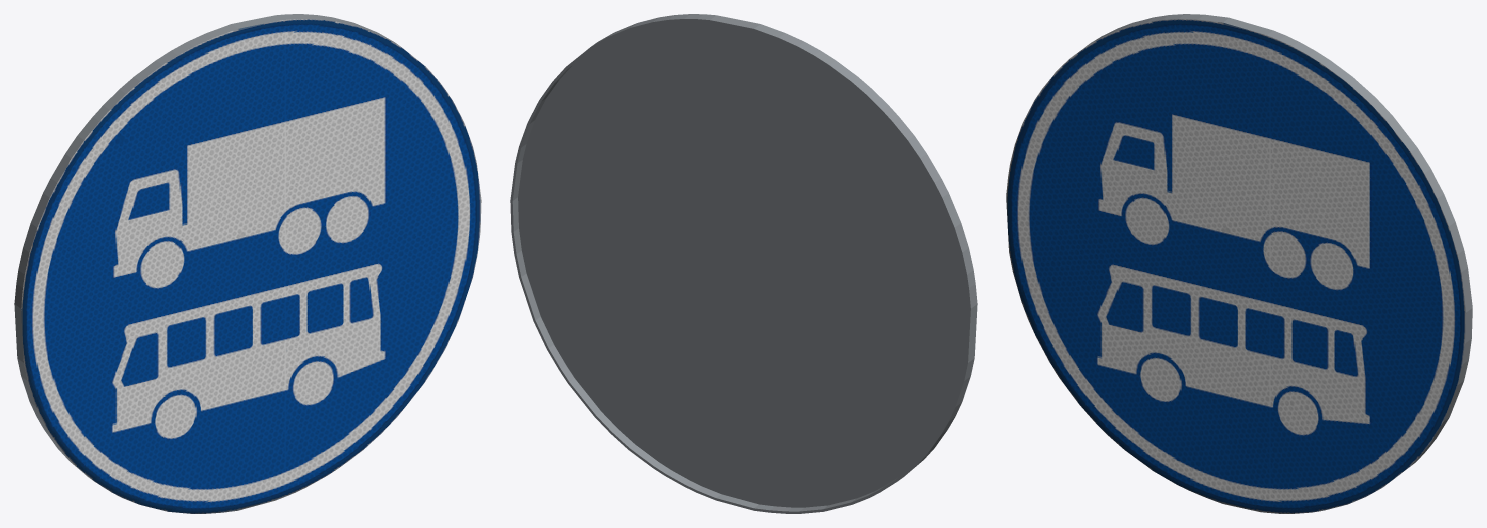
3 renders of one model, left to right at view 1: azimuth 30°, elevation 25°; view 2: azimuth 150°, elevation 25°; view 3: azimuth 330°, elevation 25°, orthographic.
Parts seen in each view (by area): view 1: cat_cbc5e7c9cc3161d1; view 2: cat_cbc5e7c9cc3161d1; view 3: cat_cbc5e7c9cc3161d1.
Boxes of the visible parts, left/top/right/bottom form: cat_cbc5e7c9cc3161d1: left=14, top=14, right=481, bottom=513; cat_cbc5e7c9cc3161d1: left=510, top=14, right=977, bottom=513; cat_cbc5e7c9cc3161d1: left=1006, top=14, right=1472, bottom=513.
Size of the model in its own units: 0.6 by 0.015 by 0.6.
2 materials, 1 textured.
